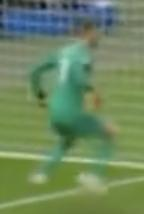goalkeeper: (20, 13, 137, 204)
